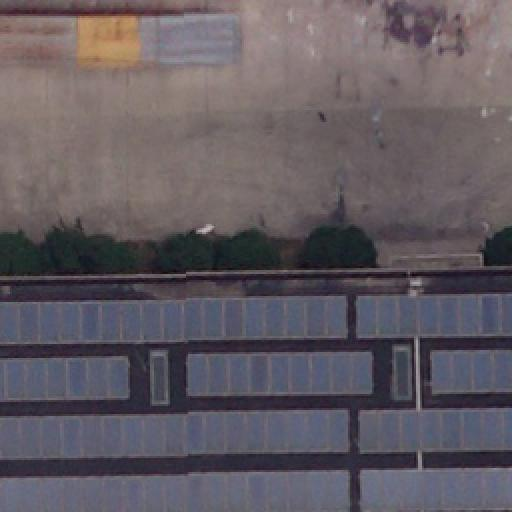solar-panel: (0, 408, 348, 460), (0, 292, 348, 344), (1, 468, 351, 512), (186, 349, 374, 395), (352, 287, 512, 337), (358, 465, 512, 511), (358, 405, 512, 451), (0, 353, 128, 399), (428, 349, 512, 395)
